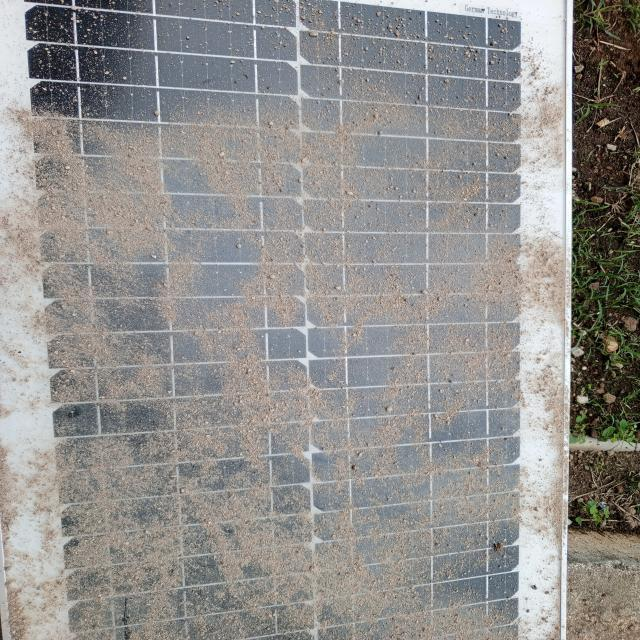Surface Contaminant: (22, 37, 565, 638)
